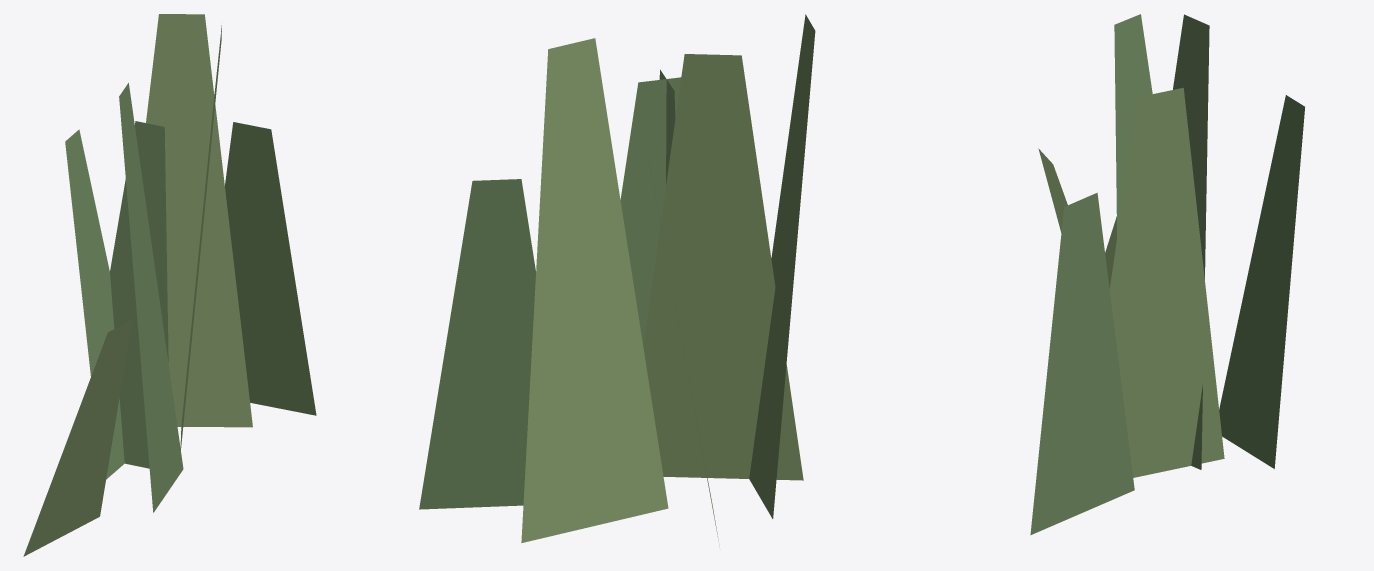
Rendered from shrub.temp.grass__summer.glb.
The picture shows the model from 3 angles, left to right: view 1: azimuth 30°, elevation 25°; view 2: azimuth 150°, elevation 25°; view 3: azimuth 270°, elevation 25°; orthographic projection. The views are drawn at different scales.
Parts seen in each view (by area): view 1: shrub.temp.grass__summer; view 2: shrub.temp.grass__summer; view 3: shrub.temp.grass__summer.
Boxes of the visible parts, x1,y1,x2,y2 form: shrub.temp.grass__summer: (23, 14, 316, 556); shrub.temp.grass__summer: (419, 14, 815, 547); shrub.temp.grass__summer: (1030, 14, 1304, 535).
Size of the model in its own units: 0.5952 by 0.5961 by 0.4268.
